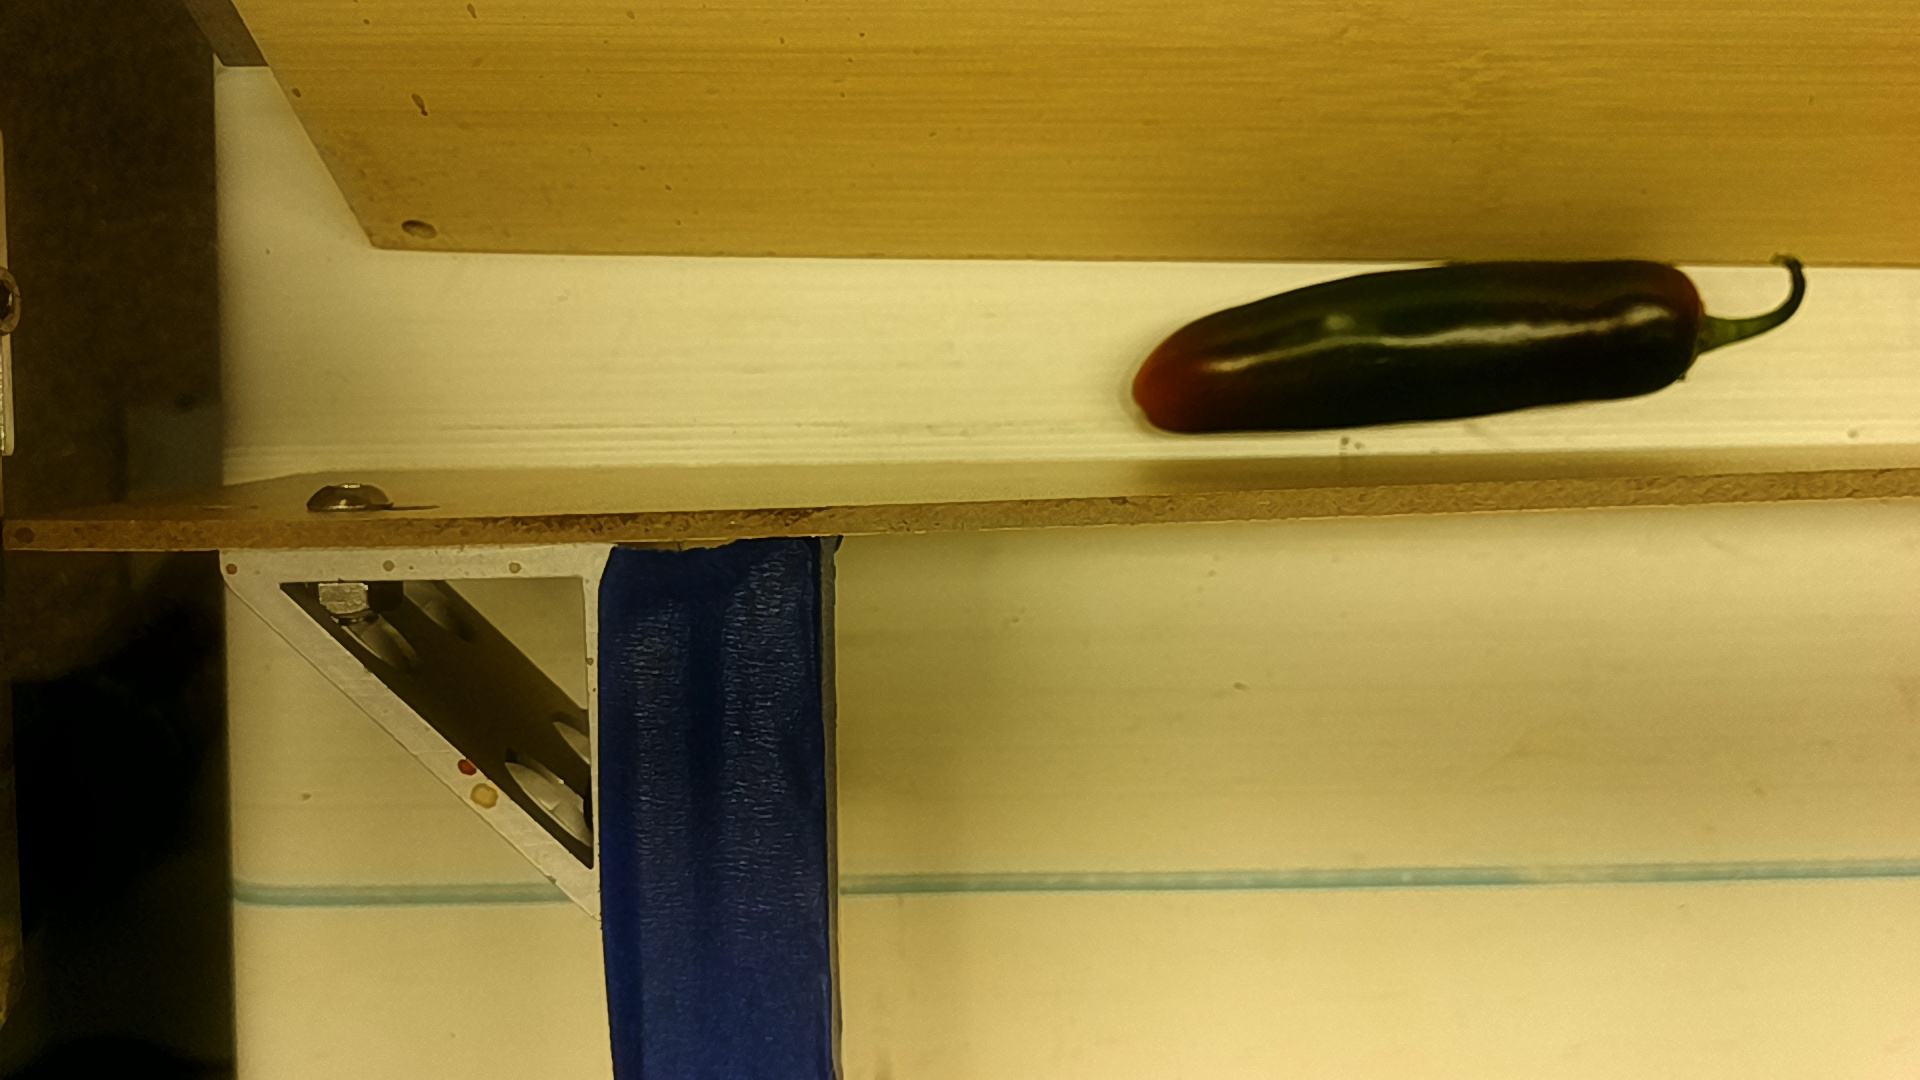Cut Point: (1644, 251, 1737, 397)
